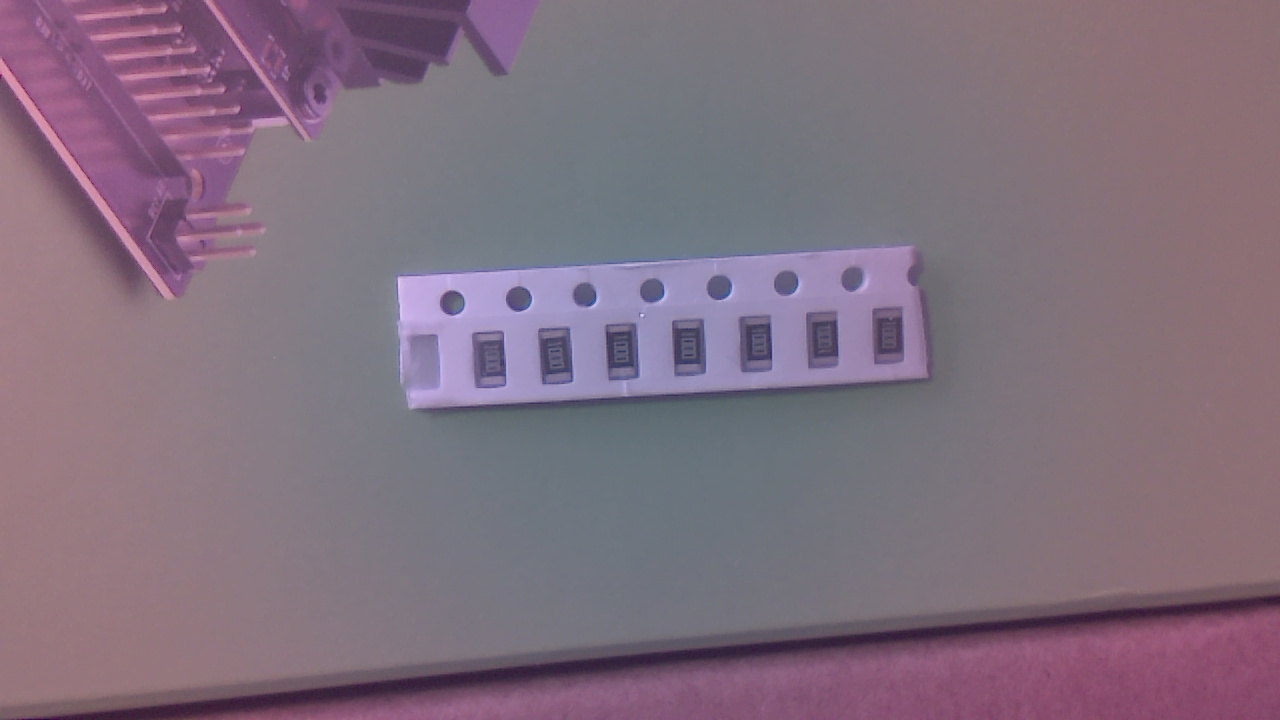Resistor: (543, 331, 581, 390), (476, 335, 513, 395), (812, 315, 848, 373), (678, 323, 713, 382), (878, 310, 911, 370), (744, 318, 777, 376), (610, 329, 644, 385)
